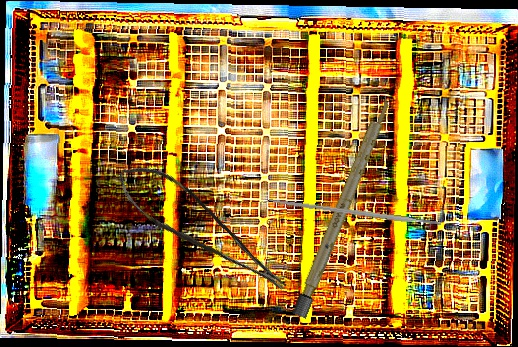Micro Scissor: (108, 146, 292, 320)
Scalpel Handle: (291, 94, 395, 319), (268, 196, 442, 229)
